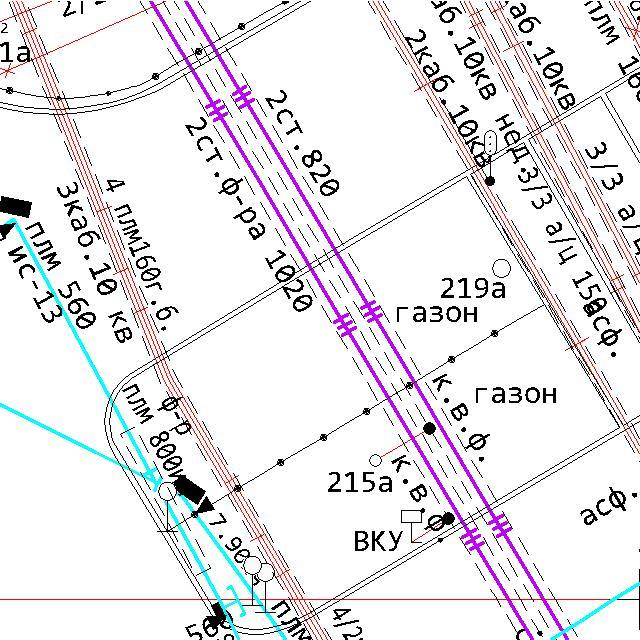asphalt: (579, 485, 640, 527), (582, 299, 623, 359)
mark: (205, 613, 228, 631), (195, 496, 216, 514)
sing: (155, 481, 179, 533), (255, 562, 277, 614), (243, 555, 263, 607), (399, 508, 424, 544)
well: (491, 258, 512, 279), (368, 452, 383, 468)
